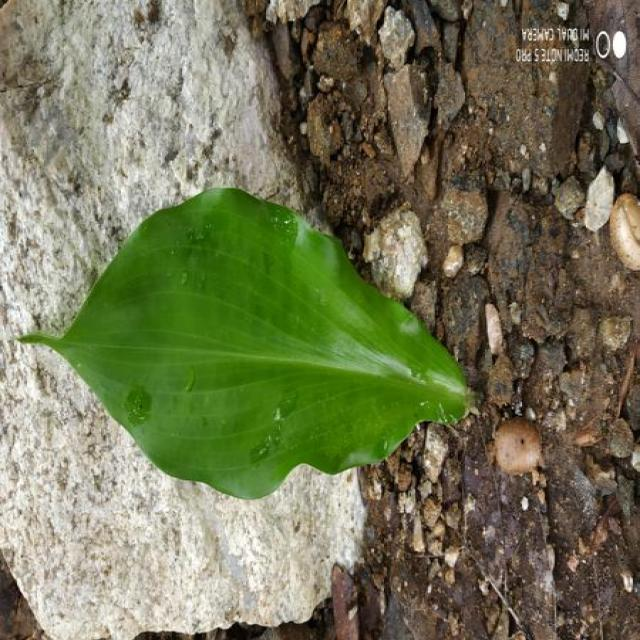insulin: (20, 189, 470, 498)
